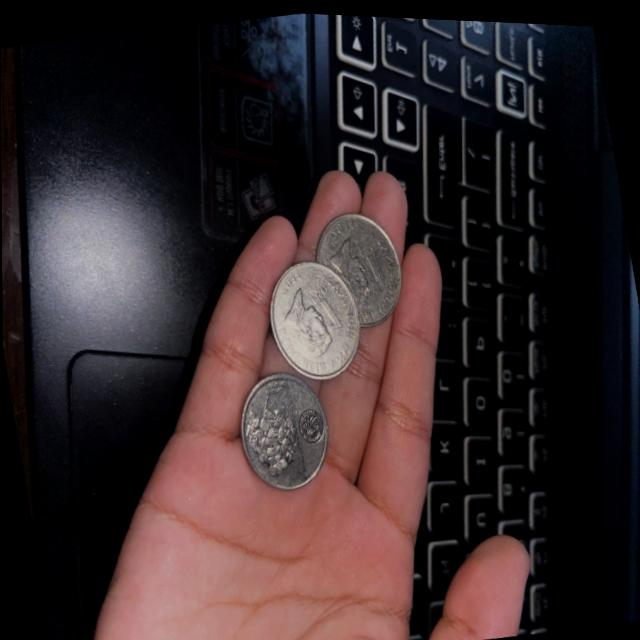1_New_Back: (236, 385, 303, 478)
1_Old_Front: (355, 227, 395, 296), (305, 270, 346, 335)
